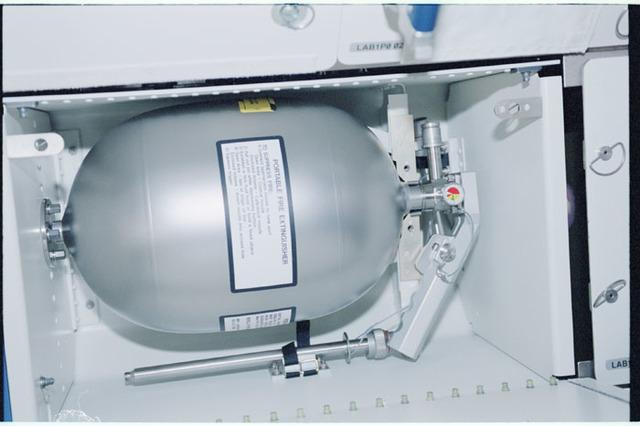Fire Extinguisher: (44, 93, 514, 363)
